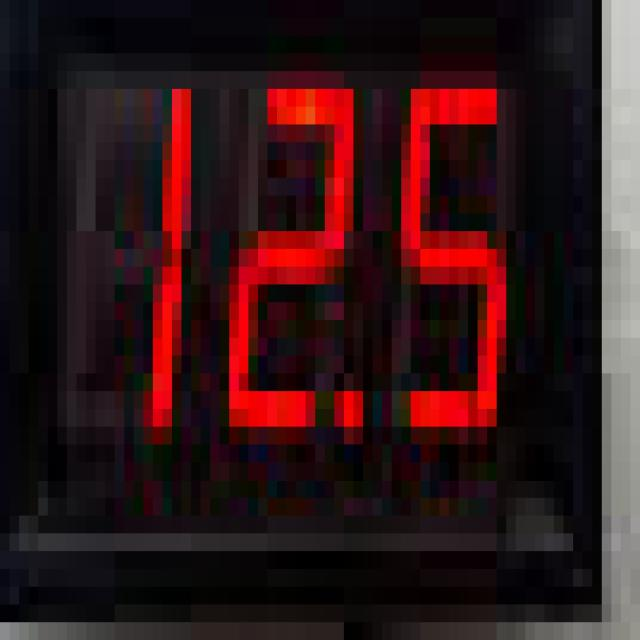.: (330, 372, 368, 453)
1: (117, 36, 199, 454)
2: (219, 43, 380, 468)
5: (397, 49, 523, 468)
screen: (52, 38, 538, 490)
